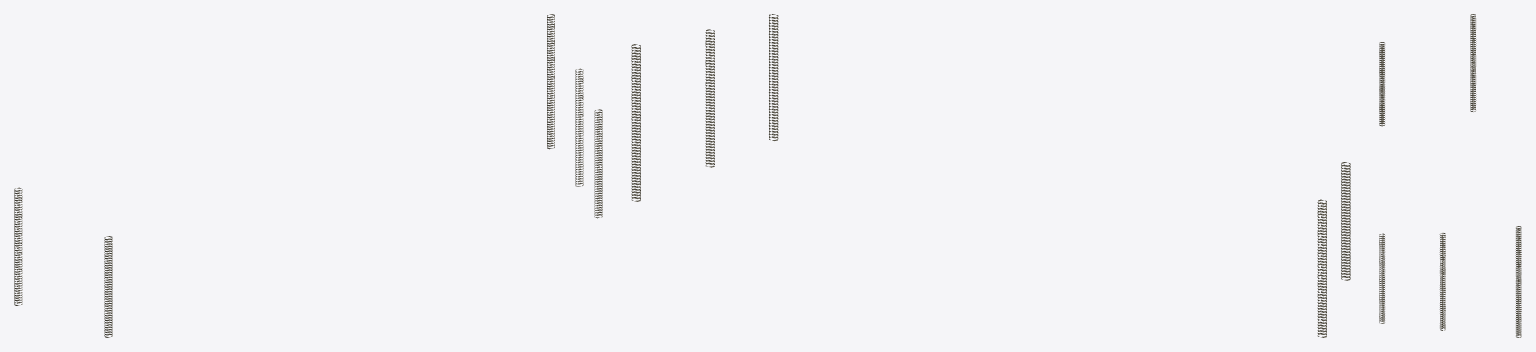
File: teaching3-vegetation-11-medium.glb
3 views of the same model, side by side, from view 1: azimuth 30°, elevation 25°; view 2: azimuth 150°, elevation 25°; view 3: azimuth 270°, elevation 25° (orthographic). The views are drawn at different scales.
Visible parts, largest first — view 1: vegetation palm bark; view 2: vegetation palm bark; view 3: vegetation palm bark.
Boxes of the visible parts, box(x1,y1,x2,y2) form: vegetation palm bark: box(14, 14, 602, 337); vegetation palm bark: box(631, 14, 1350, 337); vegetation palm bark: box(1379, 14, 1521, 337).
Size of the model in its own units: 35.68 by 7.92 by 9.42.
